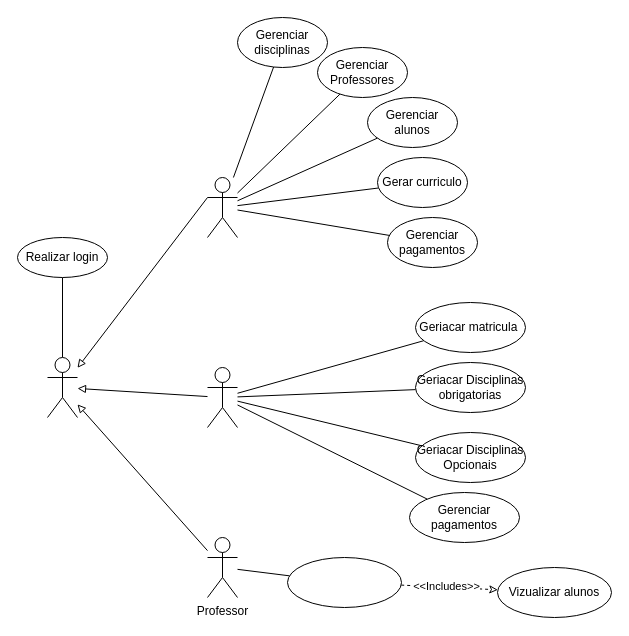
The diagram is 629 pixels wide and 636 high, and some of its shapes have lost their labels. Here are the shapes that lost their labels. From the top down, the box of each, then its label:
(206, 176, 238, 238): Secretaria
(46, 356, 78, 418): Usuário
(206, 366, 238, 428): Aluno
(286, 556, 402, 608): Vizualizar Disciplinas
